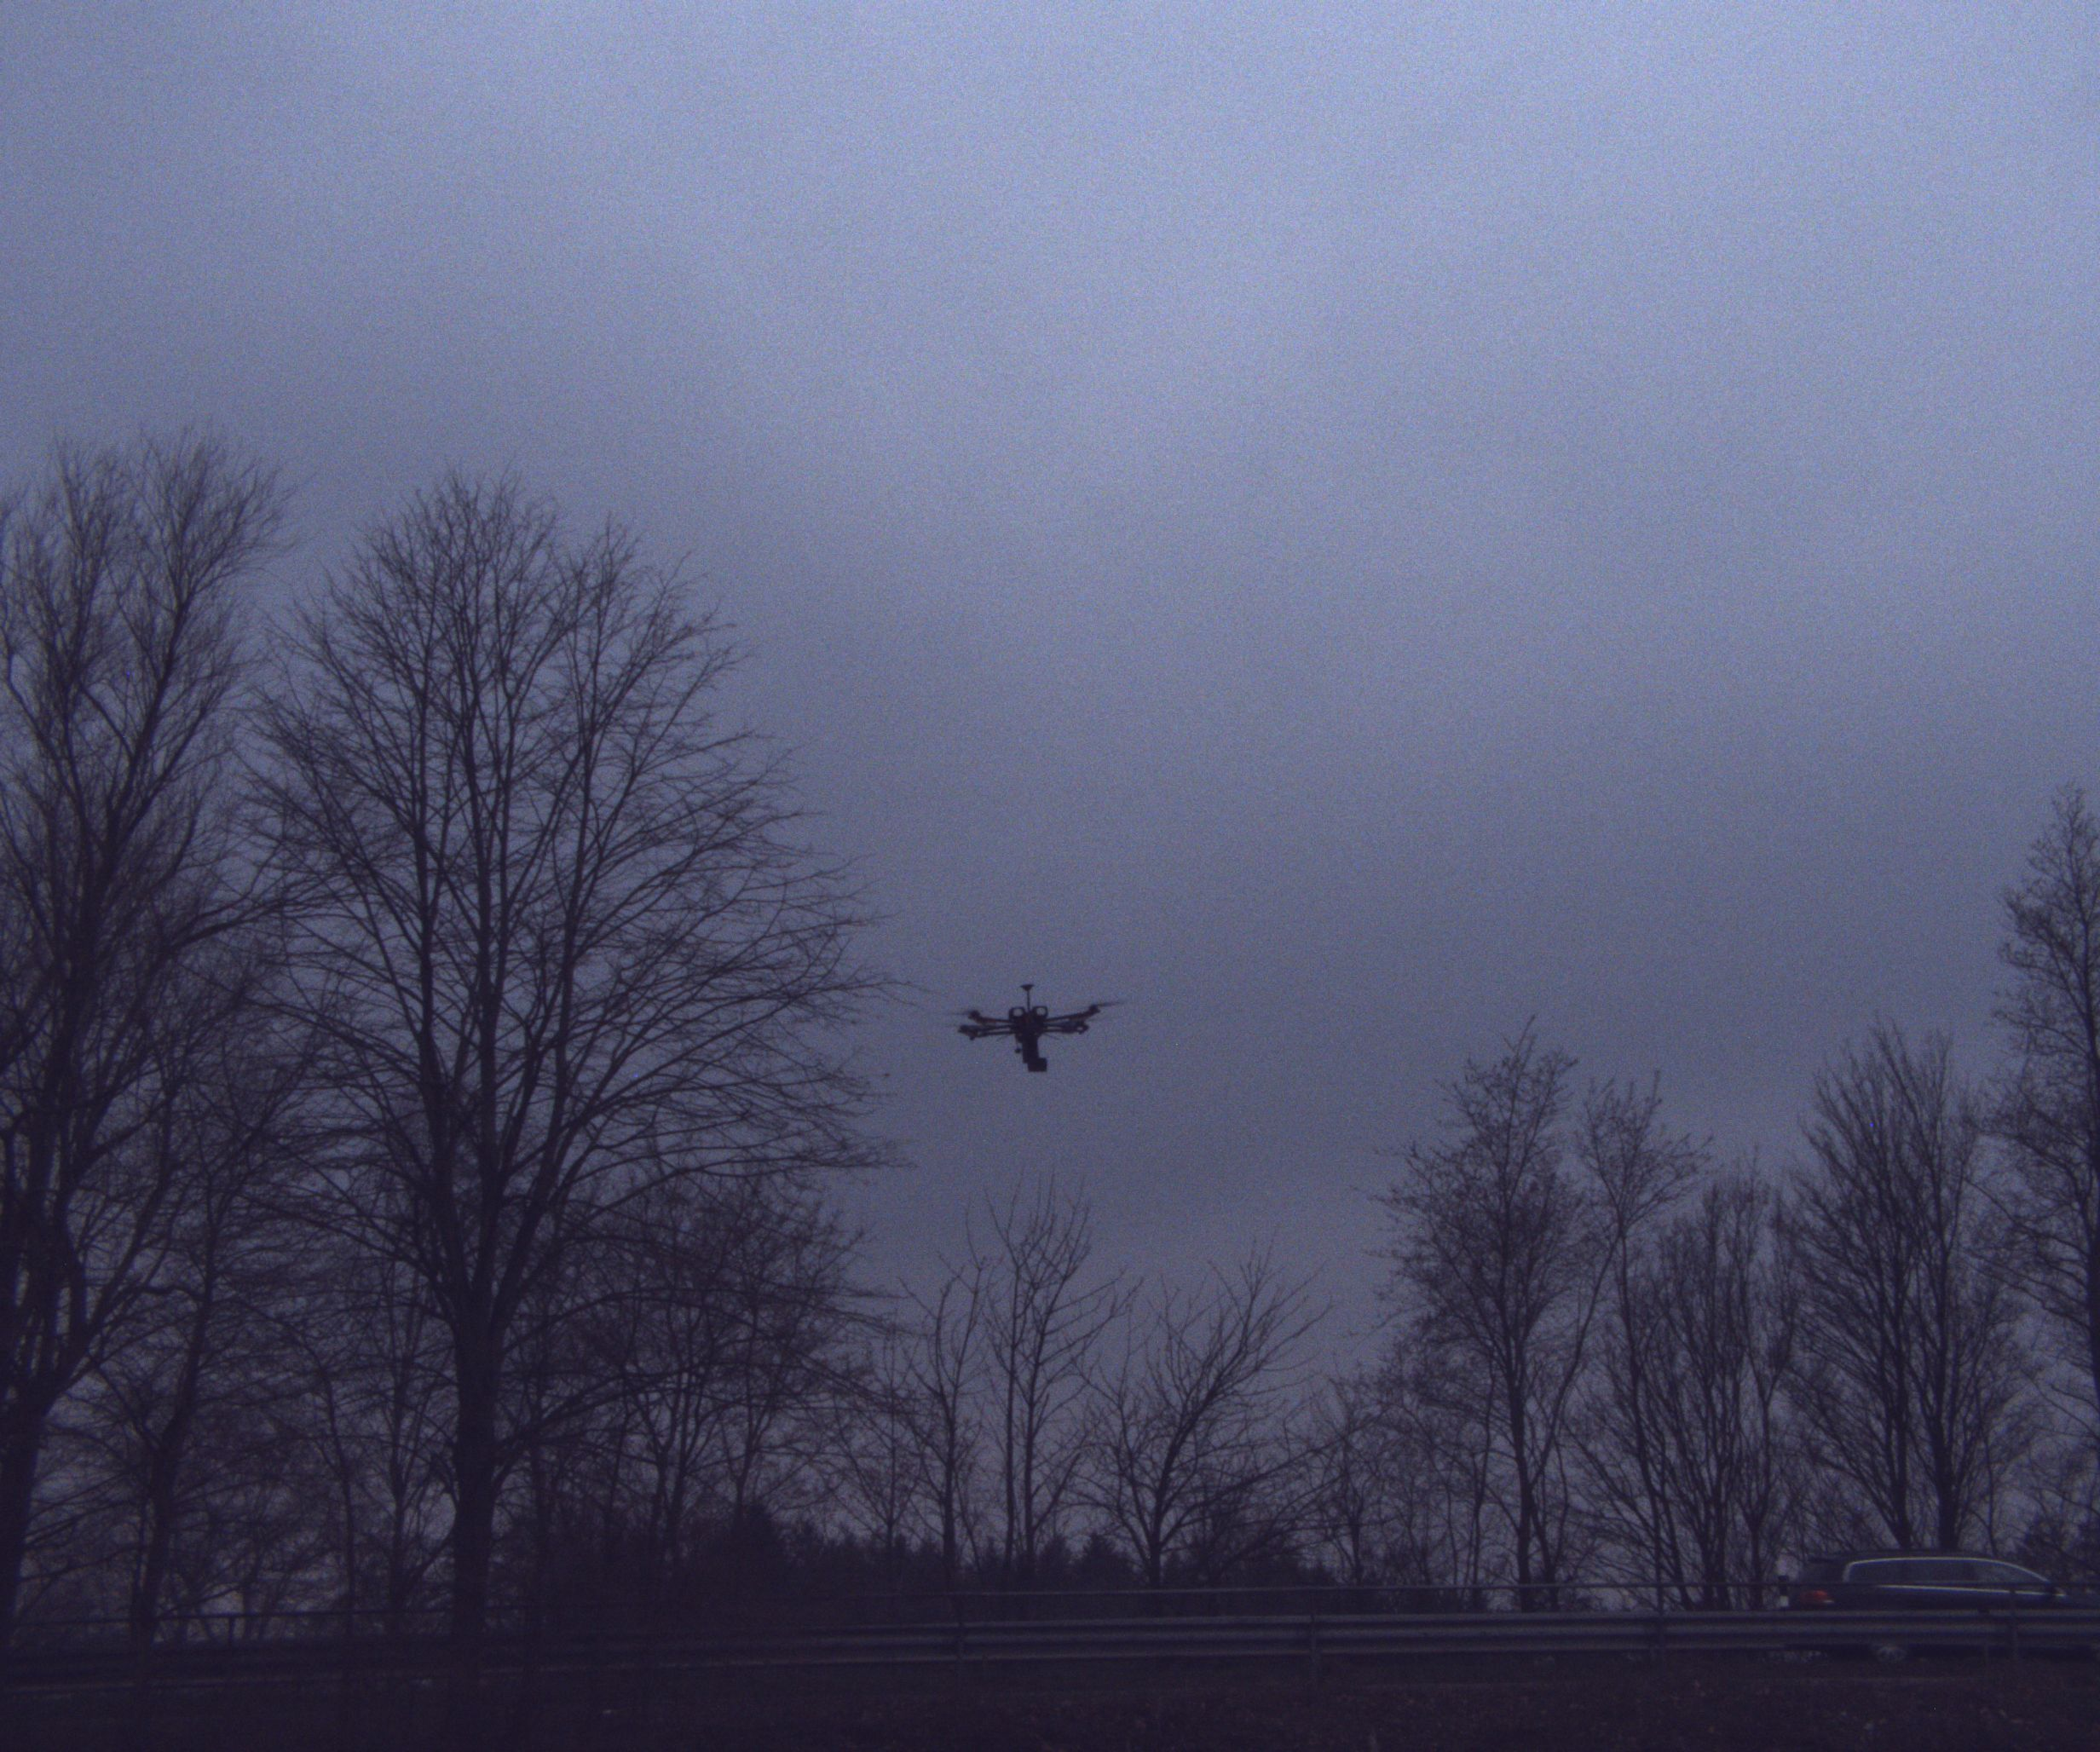Drohne: (909, 974, 1149, 1144)
